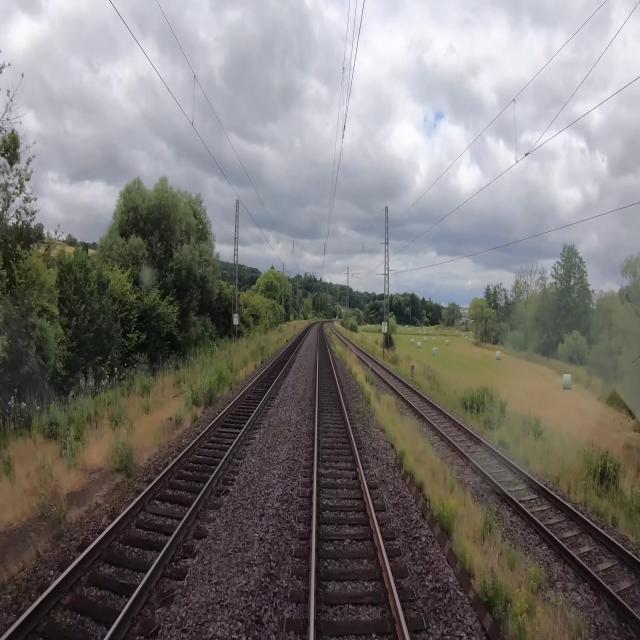Plant: (324, 325, 596, 639), (352, 399, 370, 430)
